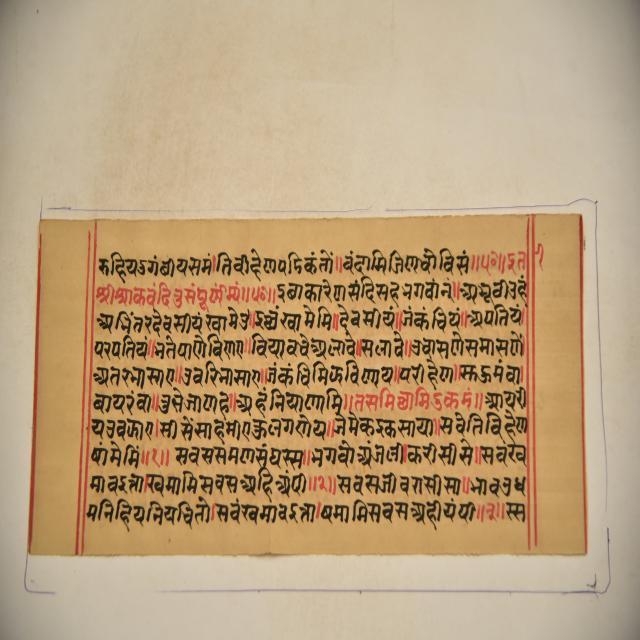text_paragraph: (24, 214, 586, 558)
